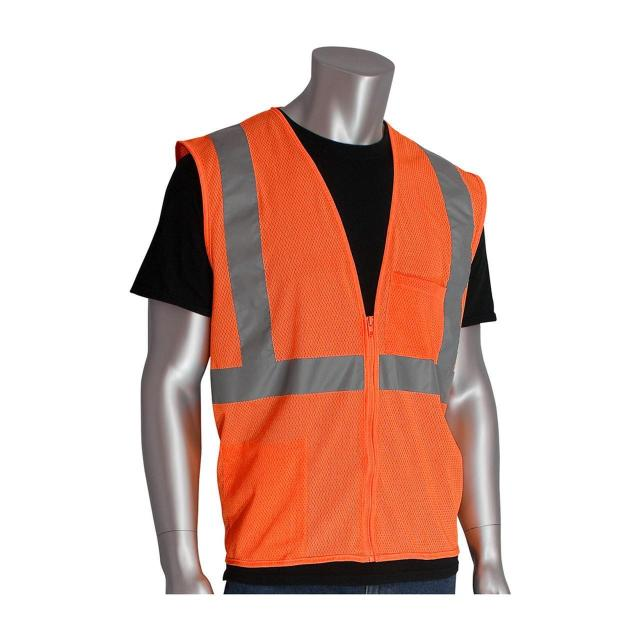Vest: (171, 109, 488, 571)
